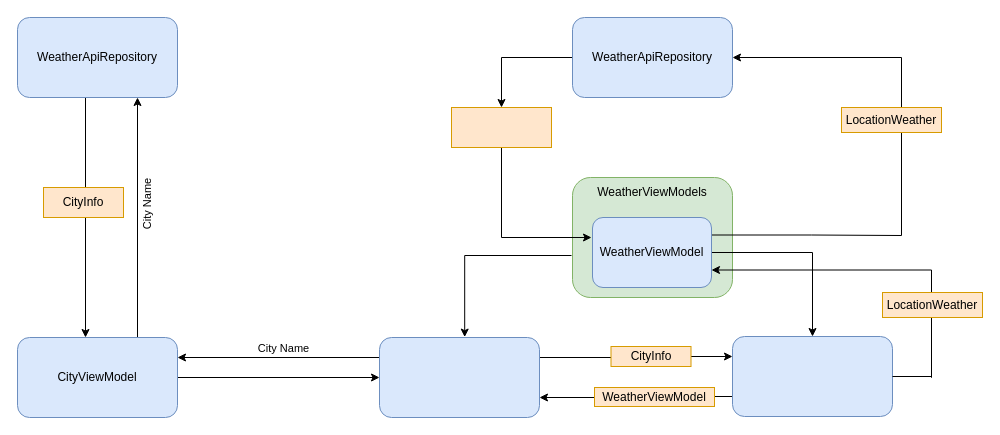
The diagram is 1000 pixels wide and 435 high, and some of its shapes have lost their labels. Here are the shapes that lost their labels. From the top down, the box of each, then its label:
(450, 106, 552, 148): CityWeather
(378, 336, 540, 418): WeatherListViewController
(732, 336, 892, 416): CurrentCityViewController
